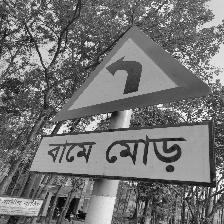Left-Turn: (28, 29, 215, 182)
